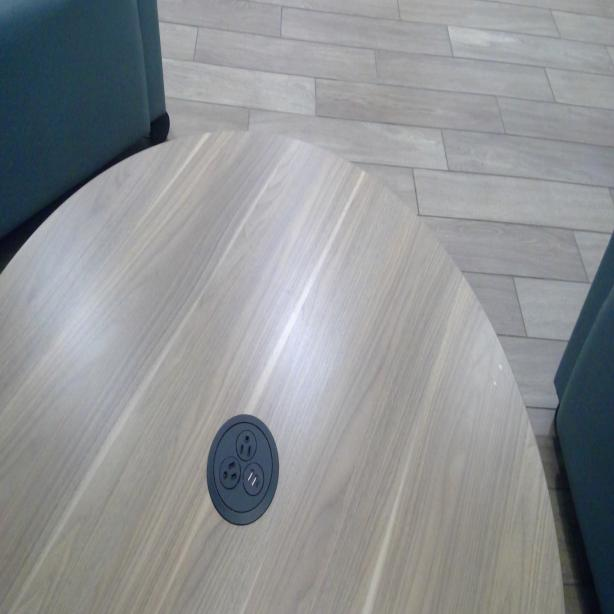typeb: (237, 428, 255, 456), (220, 459, 238, 486)
